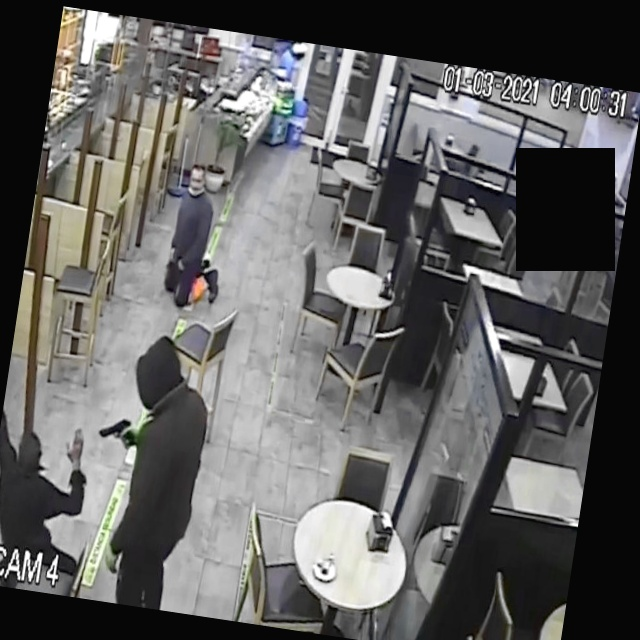gun: (85, 403, 141, 464)
